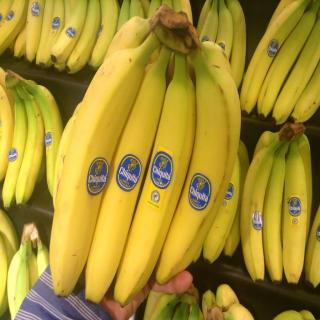Banana: (0, 0, 320, 320), (48, 30, 162, 298)
